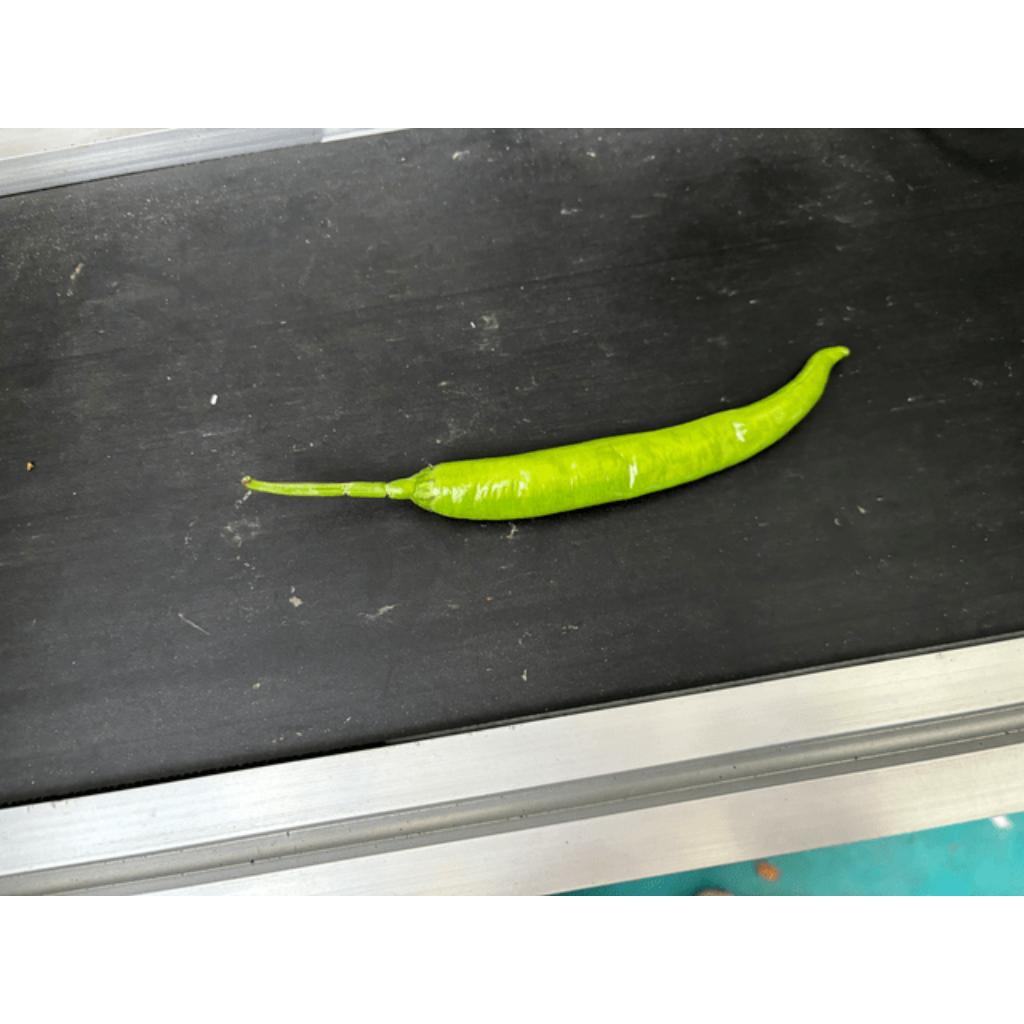chili: (408, 343, 853, 522)
